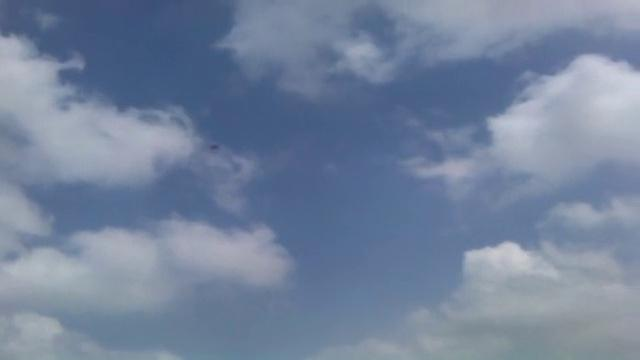drone: (207, 139, 220, 153)
